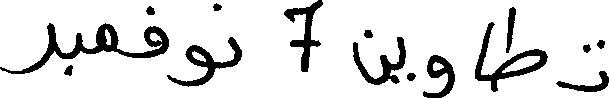X: (497, 2, 544, 95), (0, 18, 54, 78), (560, 35, 608, 96), (287, 0, 320, 76), (169, 40, 211, 91), (355, 25, 386, 89), (476, 17, 493, 96), (424, 50, 452, 97), (147, 1, 166, 62), (97, 18, 117, 57), (229, 32, 240, 71), (399, 32, 404, 86), (76, 28, 81, 60)
